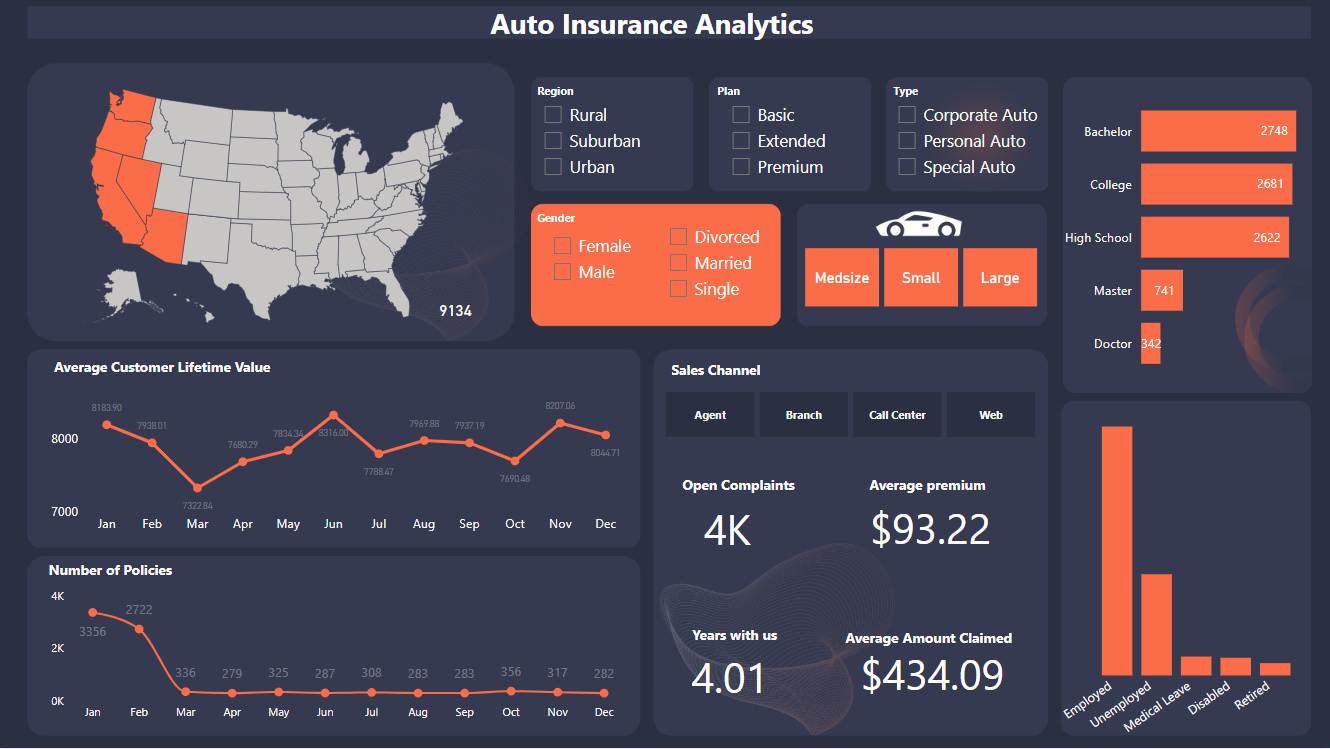

The dashboard page shown, as its layout file describes it:
{"tool":"powerbi","page":{"name":"Page 1","canvas":[1280,720],"ordinal":0},"visuals":[{"type":"shapeMap","fields":{"Category":["AutoInsurance.State"]},"box":[36,69.1,446.4,259.7],"z":0},{"type":"cardVisual","fields":{"Data":["AutoInsurance.avg_monthly_premium"]},"box":[819.4,452.4,185.1,100.5],"z":0,"group":"g4"},{"type":"cardVisual","fields":{"Data":["Avg(AutoInsurance.Months_Since_Policy_Inception)"]},"box":[648.4,599.6,111.7,86.9],"z":0,"group":"g1"},{"type":"cardVisual","fields":{"Data":["Avg(AutoInsurance.Total Claim Amount)"]},"box":[804.4,601.6,183.9,85.9],"z":0,"group":"g3"},{"type":"slicer","fields":{"Values":["AutoInsurance.Location Code"]},"box":[510.6,93.4,118.7,91.4],"z":1000},{"type":"textbox","box":[830.7,452.4,132.1,32.7],"z":1000,"group":"g4"},{"type":"textbox","box":[640.5,597.3,132.1,32.7],"z":1000,"group":"g1"},{"type":"textbox","box":[807.1,600.3,180.9,33],"z":1000,"group":"g3"},{"type":"slicer","fields":{"Values":["AutoInsurance.Coverage"]},"box":[691.6,93.4,136.2,91.4],"z":2000},{"type":"slicer","fields":{"Values":["AutoInsurance.Policy Type"]},"box":[851.1,93.4,152.7,91.4],"z":3000},{"type":"slicer","fields":{"Values":["AutoInsurance.Gender"]},"box":[519.1,219.1,101.8,65.5],"z":4000},{"type":"slicer","fields":{"Values":["AutoInsurance.Marital Status"]},"box":[630.9,210.9,107.3,88.2],"z":5000},{"type":"card","fields":{"Values":["CountNonNull(AutoInsurance.Gender)"]},"box":[413.4,288,48.6,27.4],"z":6000},{"type":"clusteredBarChart","fields":{"Category":["AutoInsurance.Education"],"Y":["CountNonNull(AutoInsurance.Education)"]},"box":[1018.4,78.8,258.7,293.7],"z":7000},{"type":"clusteredColumnChart","fields":{"Category":["AutoInsurance.EmploymentStatus"],"Y":["CountNonNull(AutoInsurance.EmploymentStatus)"]},"box":[1018.5,389.9,238.8,324],"z":8000},{"type":"advancedSlicerVisual","fields":{"Values":["AutoInsurance.Vehicle Size"]},"box":[769.4,234.8,234.8,66.9],"z":9000},{"type":"image","box":[827.4,164.9,112.9,102.9],"z":10000},{"type":"lineChart","fields":{"Y":["CountNonNull(AutoInsurance.Number of Policies)"],"Category":["Date.Month"]},"box":[44,559.6,559.6,143.9],"z":11000},{"type":"cardVisual","fields":{"Data":["Sum(AutoInsurance.Number of Open Complaints)"]},"box":[650.5,473.3,97.1,61],"z":12000,"group":"g2"},{"type":"textbox","box":[24,534.6,163.9,33],"z":12000},{"type":"group","id":"g1","title":"Group 2","box":[640.5,597.3,131.9,89.9],"z":13000},{"type":"group","id":"g2","title":"Group 3","box":[650.5,452.4,136.9,81.9],"z":14000},{"type":"textbox","box":[650.5,452.4,136.6,32.7],"z":14001,"group":"g2"},{"type":"group","id":"g3","title":"Group 1","box":[804.4,600.3,183.9,86.9],"z":15000},{"type":"group","id":"g4","title":"Group 4","box":[819.4,452.4,184.9,100.9],"z":16000},{"type":"lineChart","fields":{"Y":["Avg(AutoInsurance.Customer Lifetime Value)"],"Category":["Date.Month"]},"box":[44,372.7,560.6,149.9],"z":17000},{"type":"textbox","box":[26,339.7,259.8,33],"z":18000},{"type":"textbox","box":[511.4,73.3,58.6,28.1],"z":19000},{"type":"textbox","box":[684.8,73.3,58.6,28.1],"z":20000},{"type":"textbox","box":[854.3,73.3,58.6,28.1],"z":21000},{"type":"textbox","box":[511.8,195.5,58.2,28.2],"z":22000},{"type":"advancedSlicerVisual","fields":{"Values":["AutoInsurance.Sales Channel"]},"box":[640.4,372.8,355.1,48.6],"z":22001},{"type":"textbox","box":[640,342.2,106.7,26.7],"z":22002},{"type":"textbox","box":[466.3,0,348.1,51.9],"z":22003}]}

Visuals, with their boxes in screenshot pixels (x1, y1, x2, y2), scaled from the page's 1280x720 canvas onto the 1330x749 screenshot:
shapeMap - AutoInsurance.State: 37,72,501,342
cardVisual - AutoInsurance.avg_monthly_premium: 851,471,1044,575
cardVisual - Avg(AutoInsurance.Months_Since_Policy_Inception): 674,624,790,714
cardVisual - Avg(AutoInsurance.Total Claim Amount): 836,626,1027,715
slicer - AutoInsurance.Location Code: 531,97,654,192
textbox: 863,471,1000,505
textbox: 666,621,803,655
textbox: 839,624,1027,659
slicer - AutoInsurance.Coverage: 719,97,860,192
slicer - AutoInsurance.Policy Type: 884,97,1043,192
slicer - AutoInsurance.Gender: 539,228,645,296
slicer - AutoInsurance.Marital Status: 656,219,767,311
card - CountNonNull(AutoInsurance.Gender): 430,300,480,328
clusteredBarChart - AutoInsurance.Education x CountNonNull(AutoInsurance.Education): 1058,82,1327,388
clusteredColumnChart - AutoInsurance.EmploymentStatus x CountNonNull(AutoInsurance.EmploymentStatus): 1058,406,1306,743
advancedSlicerVisual - AutoInsurance.Vehicle Size: 799,244,1043,314
image: 860,172,977,279
lineChart - CountNonNull(AutoInsurance.Number of Policies) x Date.Month: 46,582,627,732
cardVisual - Sum(AutoInsurance.Number of Open Complaints): 676,492,777,556
textbox: 25,556,195,590
"Group 2" group: 666,621,803,715
"Group 3" group: 676,471,818,556
textbox: 676,471,818,505
"Group 1" group: 836,624,1027,715
"Group 4" group: 851,471,1044,576
lineChart - Avg(AutoInsurance.Customer Lifetime Value) x Date.Month: 46,388,628,544
textbox: 27,353,297,388
textbox: 531,76,592,105
textbox: 712,76,772,105
textbox: 888,76,949,105
textbox: 532,203,592,233
advancedSlicerVisual - AutoInsurance.Sales Channel: 665,388,1034,438
textbox: 665,356,776,384
textbox: 485,0,846,54
